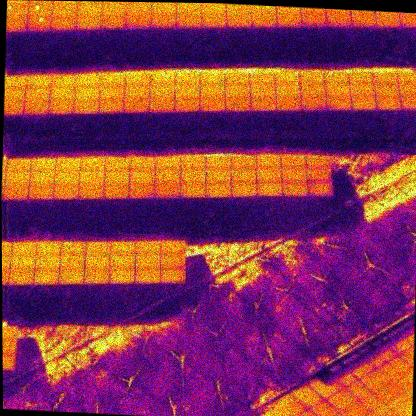Diode: (306, 154, 331, 170)
Hotspot: (374, 11, 402, 28), (26, 16, 53, 33), (79, 171, 105, 188), (282, 155, 306, 171), (60, 241, 85, 256), (230, 156, 255, 171), (27, 75, 52, 90), (150, 74, 175, 89), (324, 72, 350, 86), (32, 158, 56, 173), (200, 85, 225, 99), (175, 74, 200, 88), (200, 72, 225, 86), (206, 171, 231, 184), (275, 72, 300, 85), (28, 5, 54, 17), (7, 4, 28, 18), (7, 0, 28, 6)
Normal: (226, 12, 254, 31), (350, 11, 378, 29), (251, 11, 278, 29), (325, 11, 353, 28), (300, 94, 326, 112), (8, 268, 35, 285), (33, 268, 60, 285), (201, 13, 228, 30), (54, 183, 79, 201), (275, 11, 303, 27), (301, 11, 329, 27), (135, 239, 161, 256), (3, 183, 29, 200), (28, 184, 54, 201), (130, 155, 156, 172), (58, 268, 85, 284), (83, 268, 110, 284), (109, 268, 136, 284), (134, 268, 161, 284), (159, 268, 186, 284), (275, 96, 302, 112), (176, 14, 203, 30), (135, 254, 161, 270), (180, 183, 206, 199), (151, 14, 177, 30), (110, 254, 135, 270), (36, 242, 61, 258), (161, 240, 186, 256), (78, 185, 103, 201), (181, 170, 206, 186), (156, 157, 181, 173), (226, 96, 251, 112), (101, 15, 126, 31), (257, 182, 283, 197), (148, 99, 174, 114), (174, 98, 200, 113), (199, 97, 225, 112), (251, 97, 277, 112), (351, 96, 377, 111), (81, 157, 105, 173), (24, 99, 48, 115), (59, 255, 84, 270), (104, 184, 129, 199), (130, 184, 155, 199), (155, 184, 180, 199), (231, 183, 256, 198), (282, 183, 307, 198), (231, 169, 256, 184), (282, 169, 307, 184), (105, 157, 130, 172), (206, 157, 231, 172), (257, 155, 282, 170), (99, 99, 124, 114), (326, 97, 351, 112), (376, 96, 401, 111), (250, 84, 275, 99), (300, 83, 325, 98), (225, 72, 250, 87), (52, 18, 77, 33), (53, 4, 78, 19), (325, 84, 351, 98), (348, 72, 374, 86), (35, 255, 59, 270), (160, 254, 184, 269), (12, 242, 36, 257), (181, 157, 205, 172), (48, 100, 72, 115), (51, 75, 75, 90), (127, 2, 151, 17), (206, 184, 231, 198), (105, 171, 130, 185), (155, 172, 180, 186), (6, 160, 31, 174), (257, 170, 282, 184), (56, 158, 81, 172), (307, 170, 332, 184), (124, 100, 149, 114), (99, 87, 124, 101), (150, 87, 175, 101), (76, 74, 101, 88), (350, 84, 375, 98), (374, 84, 399, 98), (300, 72, 325, 86), (373, 72, 398, 86), (126, 16, 151, 30), (151, 2, 176, 16), (275, 84, 301, 97), (85, 254, 109, 268), (86, 242, 110, 256), (4, 99, 25, 115), (26, 88, 50, 102), (50, 89, 74, 103), (125, 87, 149, 101), (125, 74, 149, 88), (77, 16, 101, 30), (78, 4, 102, 18), (55, 172, 80, 185), (130, 171, 155, 184), (74, 101, 99, 114), (75, 88, 100, 101), (175, 86, 200, 99), (225, 85, 250, 98), (101, 75, 126, 88), (250, 73, 275, 86), (102, 4, 127, 17), (11, 256, 35, 269), (111, 242, 135, 255), (5, 173, 29, 186), (30, 172, 54, 185), (308, 184, 332, 197), (175, 3, 201, 15), (7, 18, 27, 33), (5, 76, 26, 89), (399, 12, 416, 28), (397, 73, 416, 86), (5, 89, 25, 101), (399, 84, 416, 98)
